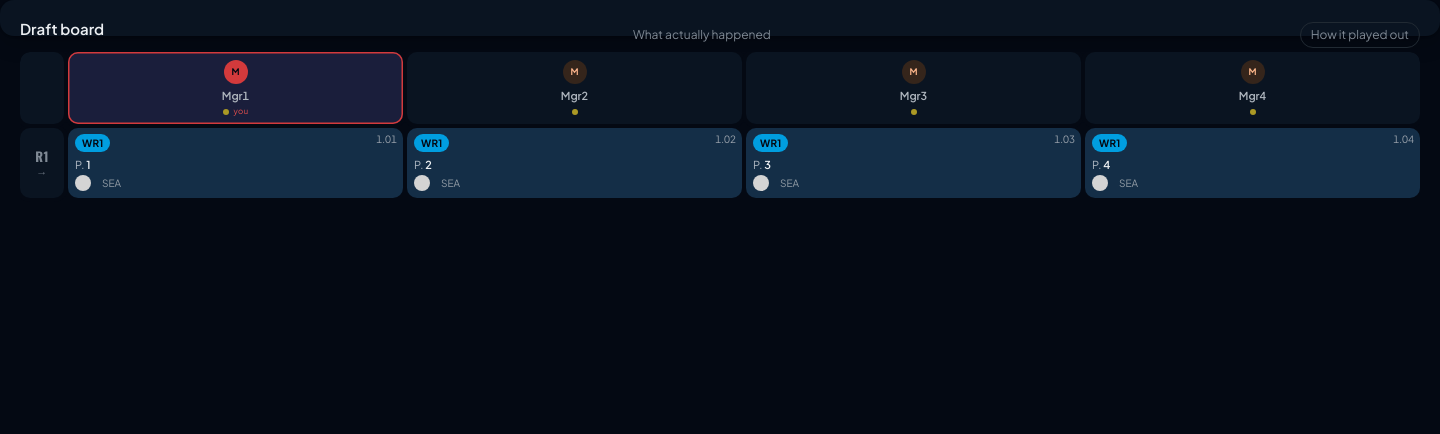
Test: CompletedDraftBoard how it played out › without ADP it is a single chip, and the NBA legend states what was measured
The width and height of the screenshot is (1440, 434).
Click the button "How it played out" at (1360, 35), box x1=1300 y1=22 x2=1420 y2=48
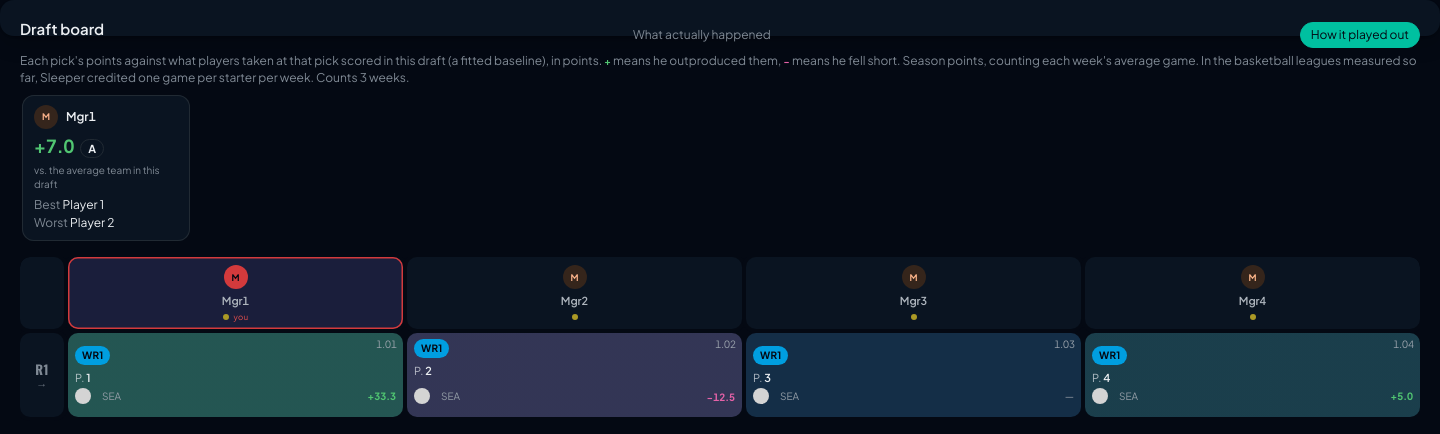
Expected: the text "Counts 3 weeks" is shown, x1=20 y1=53 x2=1416 y2=85
Expected: the text "vs. the average team in this draft" is shown, x1=34 y1=163 x2=178 y2=192
